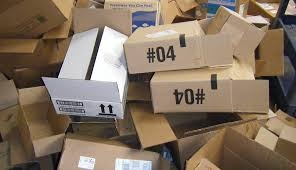paper: (38, 6, 144, 120), (139, 61, 280, 122), (118, 8, 250, 73), (9, 80, 81, 157), (179, 126, 296, 169), (42, 132, 170, 170)
